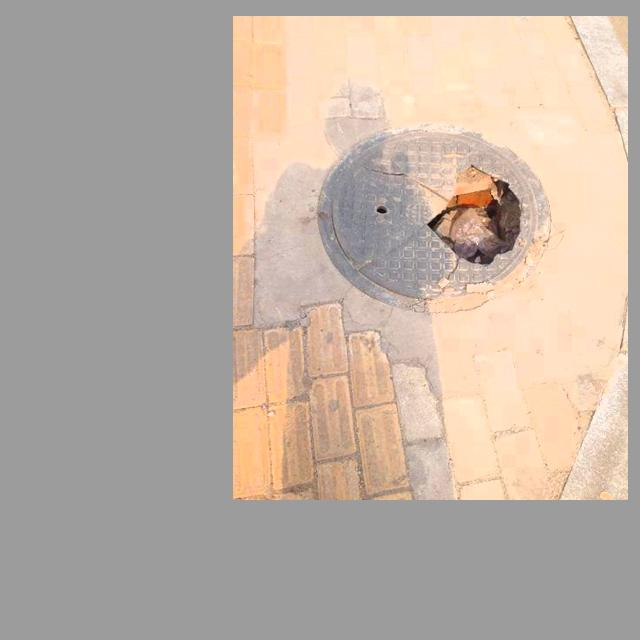broke: (307, 112, 565, 324)
